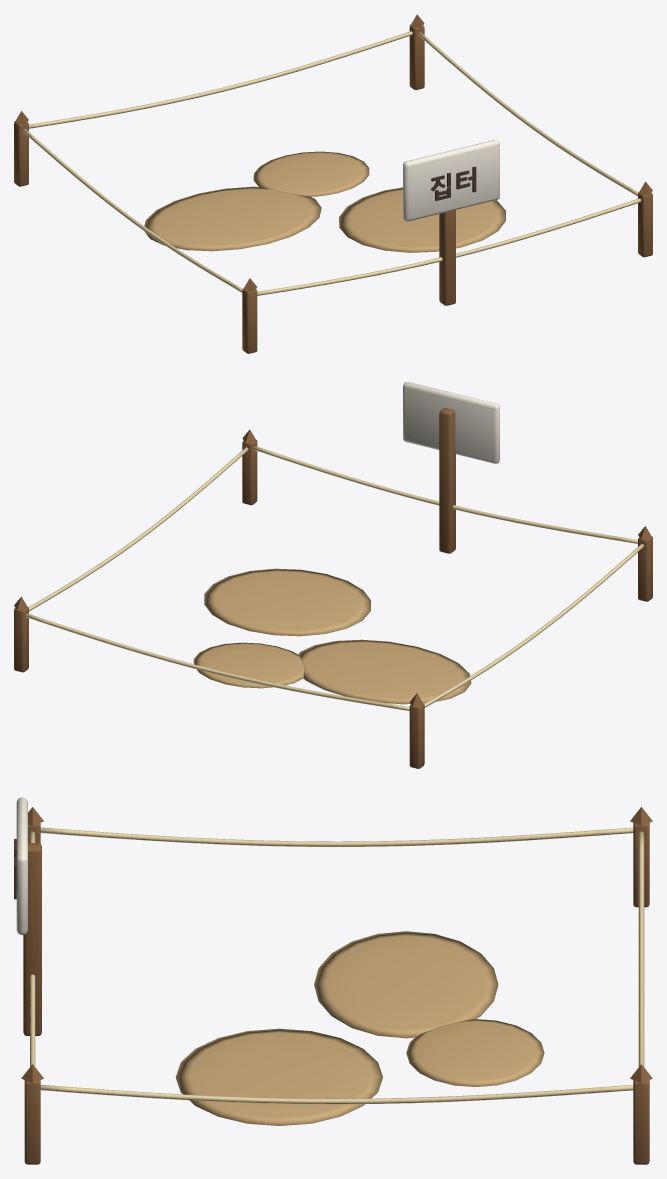
File: lot-sign.glb
The picture shows the model from 3 angles, top to bottom: view 1: azimuth 30°, elevation 25°; view 2: azimuth 150°, elevation 25°; view 3: azimuth 270°, elevation 25°; orthographic projection. The views are drawn at different scales.
Parts seen in each view (by area): view 1: lot; view 2: lot; view 3: lot.
Part boxes in pixels (box(x1,y1,x2,y2)): lot: box(14, 14, 652, 353); lot: box(14, 382, 652, 768); lot: box(14, 797, 652, 1164).
Bounding box in the file's own units: 2.74 × 1.01 × 2.77.
